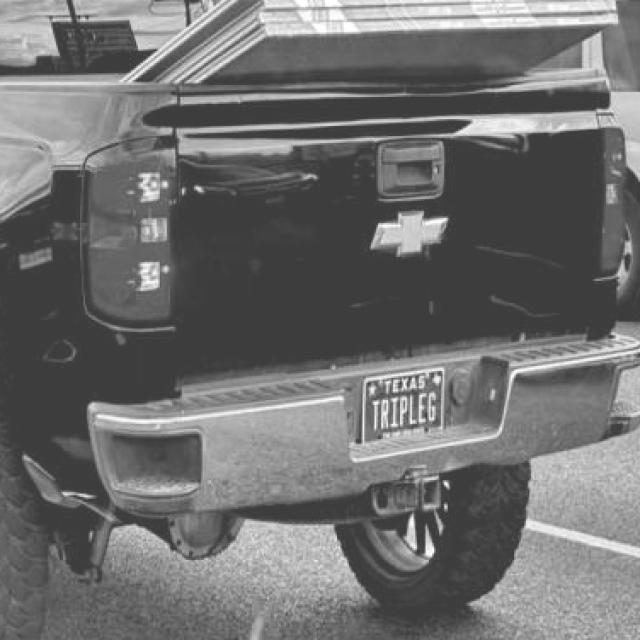licenseplate: (348, 361, 454, 443)
